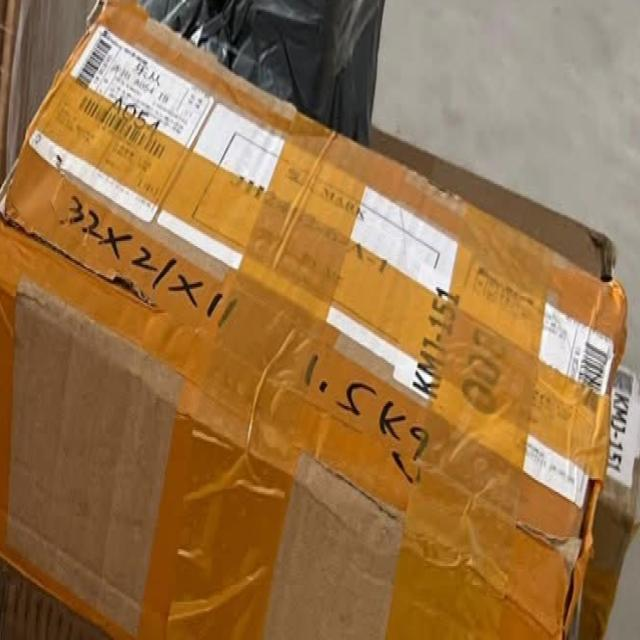carton_box: (1, 0, 619, 640)
export_mark_label: (198, 116, 443, 364), (45, 24, 207, 229)
package_damage: (0, 0, 158, 322), (561, 181, 623, 632)
